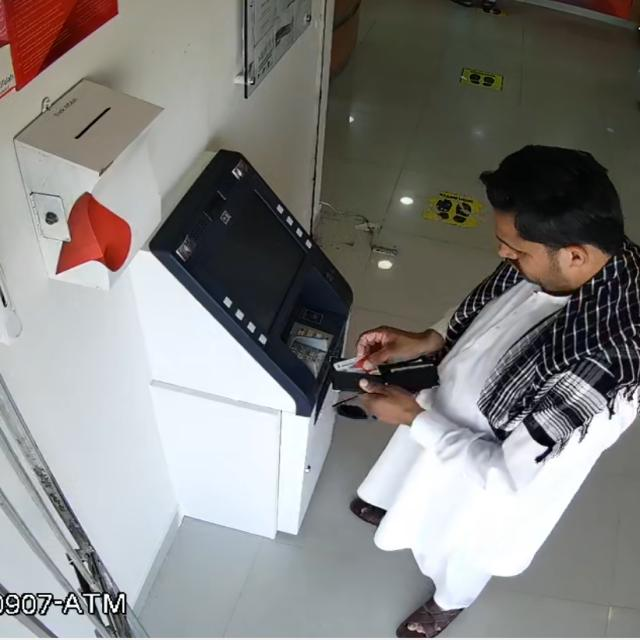atm-card: (328, 347, 382, 378)
